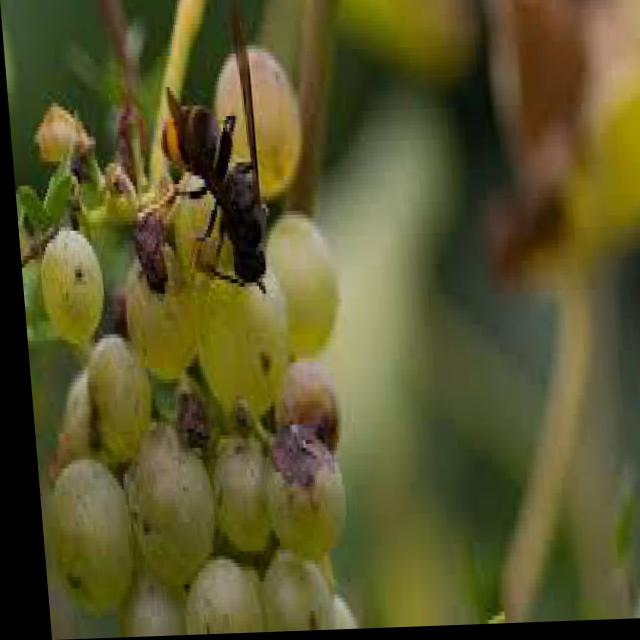Vespa Velutina: (118, 0, 280, 312)
